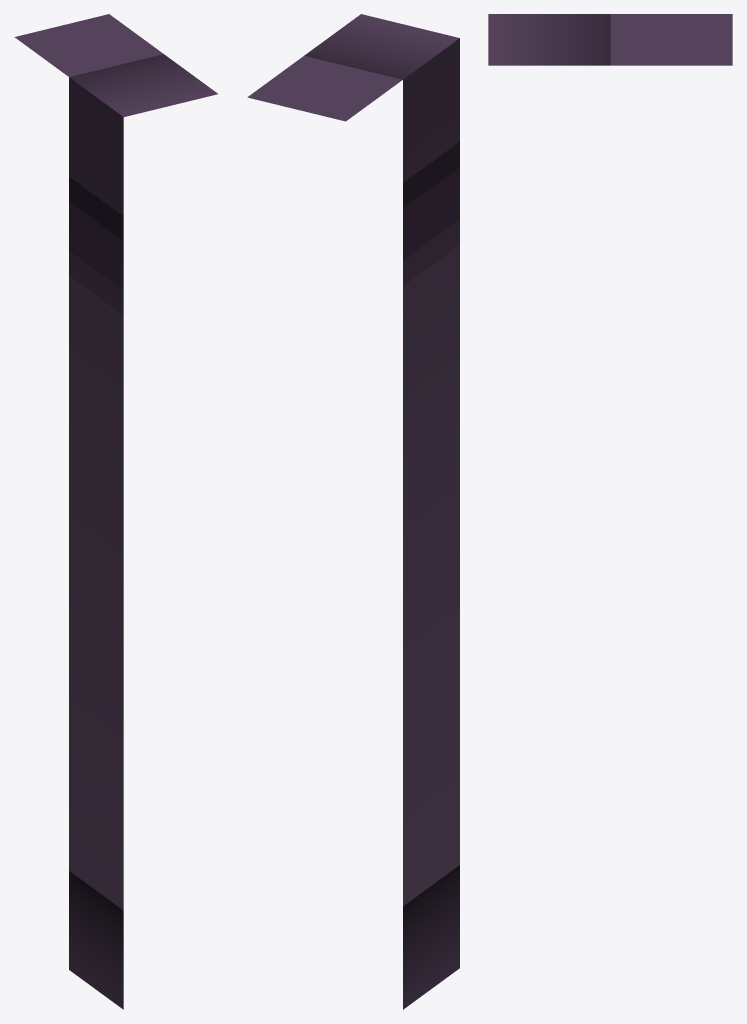
The picture shows the model from 3 angles, left to right: view 1: azimuth 30°, elevation 25°; view 2: azimuth 150°, elevation 25°; view 3: azimuth 270°, elevation 25°; orthographic projection. The views are drawn at different scales.
Bounding box in the file's own units: 0.5 × 4.5 × 1.
2 materials, 2 textured.
